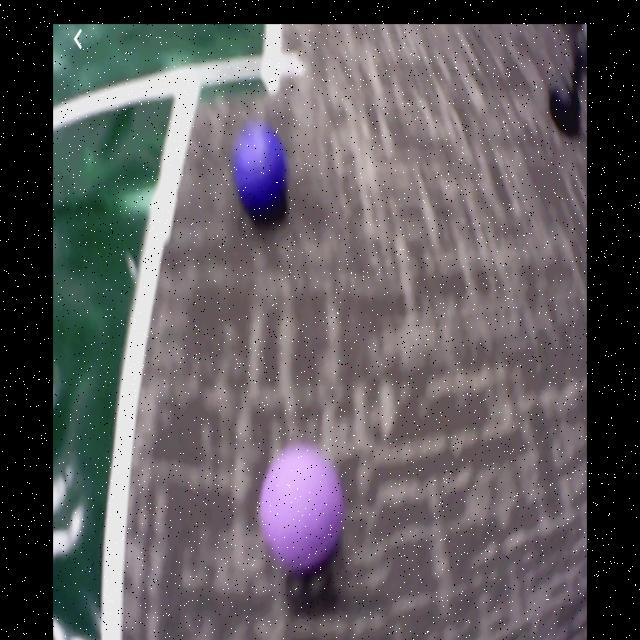ball: (262, 446, 344, 567), (235, 128, 288, 210)
